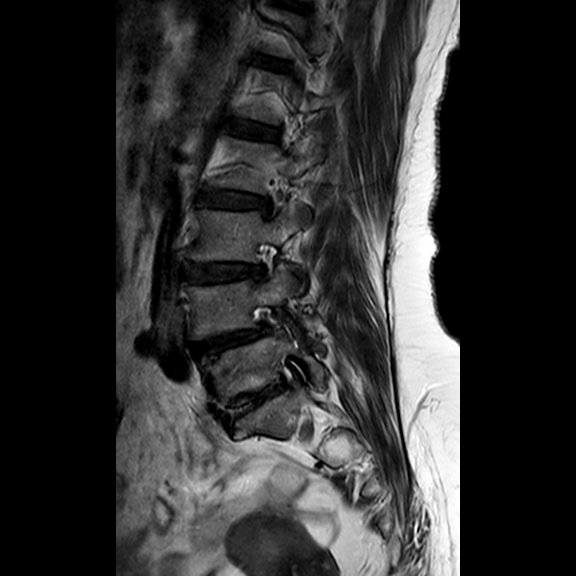RFS1: (242, 233, 288, 290)
